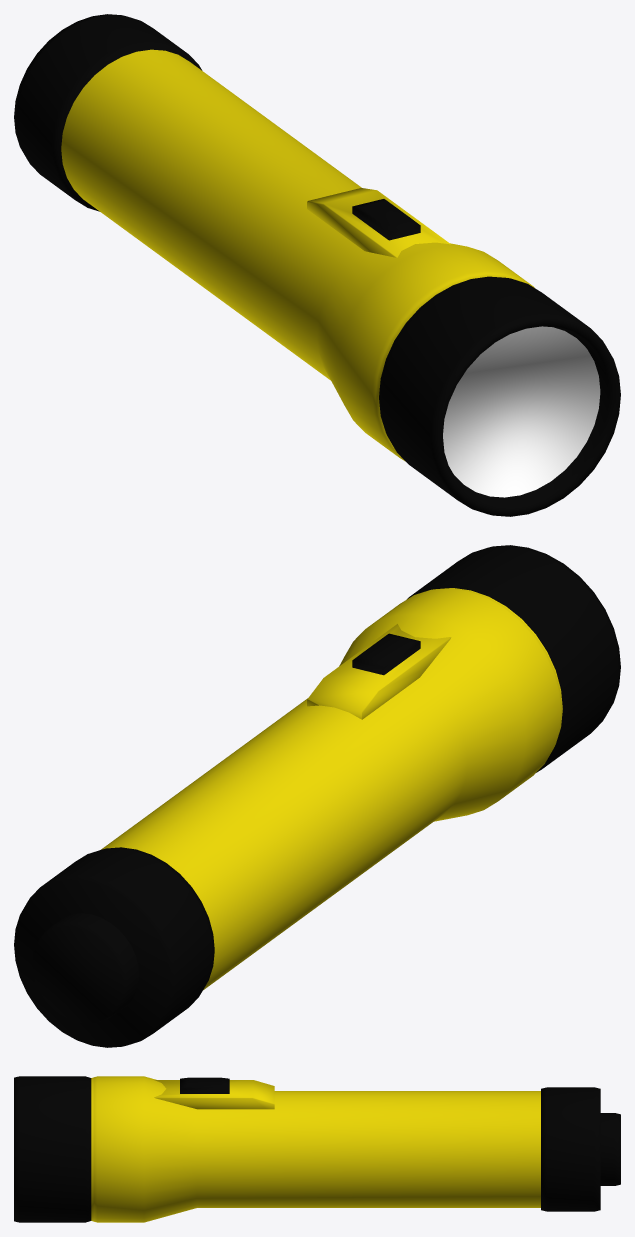
The model's file is flashlight.fbx.
The picture shows the model from 3 angles, top to bottom: view 1: azimuth 30°, elevation 25°; view 2: azimuth 150°, elevation 25°; view 3: azimuth 270°, elevation 25°; orthographic projection. The views are drawn at different scales.
Parts seen in each view (by area): view 1: Cylinder; view 2: Cylinder; view 3: Cylinder.
Part boxes in pixels (box(x1,y1,x2,y2)): Cylinder: box(14, 14, 620, 516); Cylinder: box(14, 545, 620, 1047); Cylinder: box(14, 1076, 620, 1222).
Bounding box in the file's own units: 10.04 × 10.11 × 41.63.
